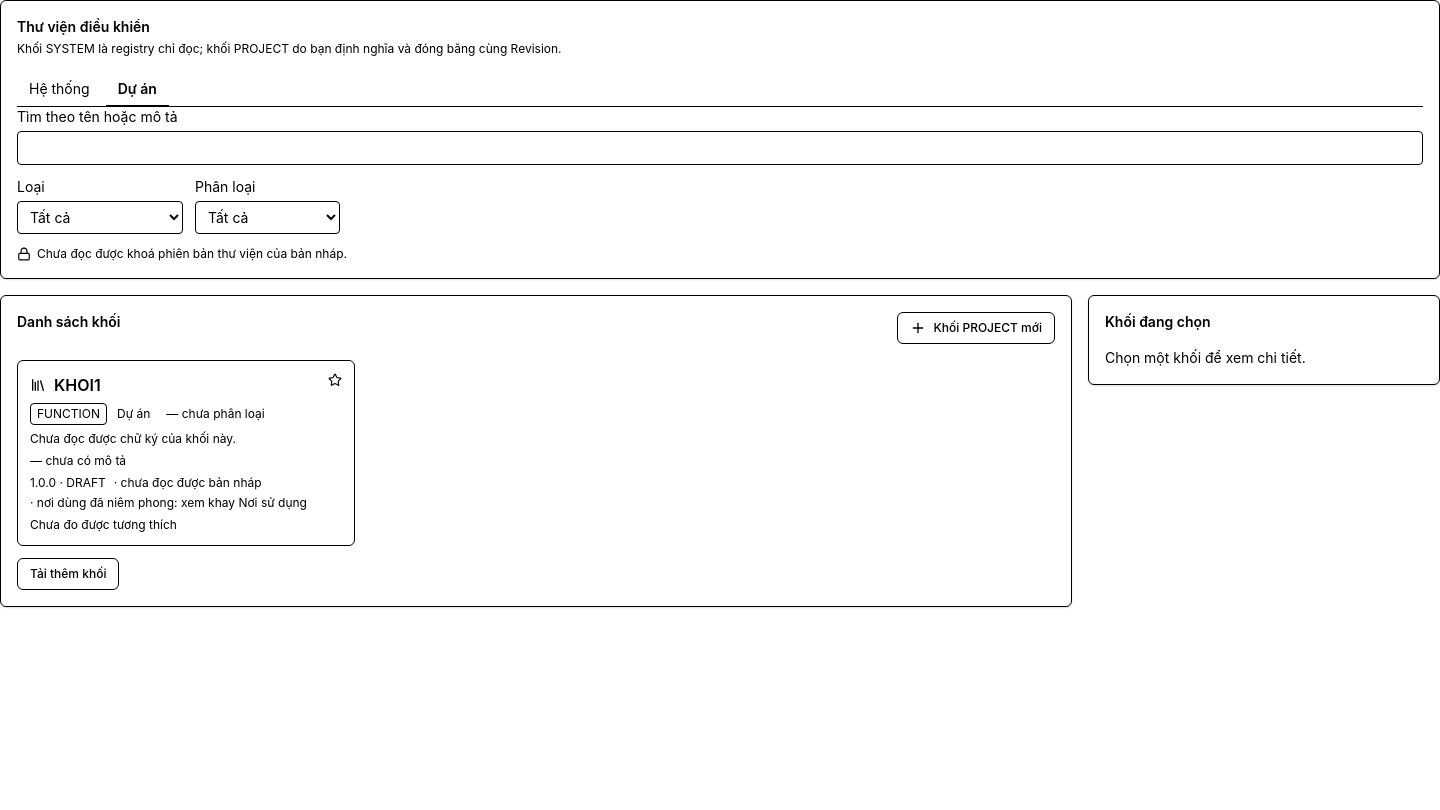
Test: LibraryPage — phân trang › cursor lặp thì dừng và nói ra, không quay vòng vô hạn
Check: the button with test id "library-block-card" is shown, box 17,360 -> 355,546
Click the button "Tải thêm khối" at (68, 574), box 17,558 -> 119,590
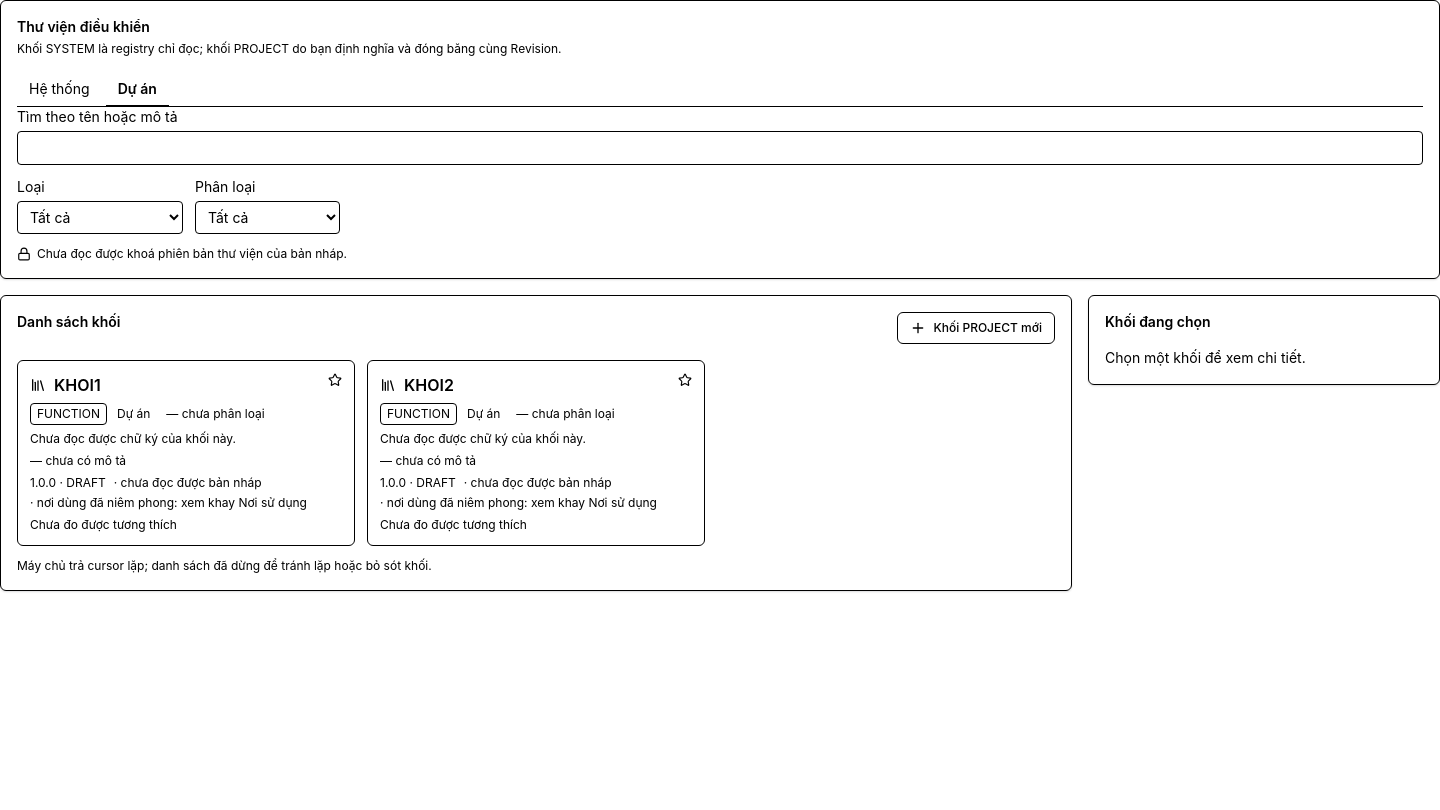
Check: the button with test id "library-block-card" is shown, box 367,360 -> 705,546
Check: the message "Máy chủ trả cursor lặp; danh sách đã dừng để tránh lặp hoặc bỏ sót khối." is shown, box 17,558 -> 432,574
Check: the button "Tải thêm khối" is gone
